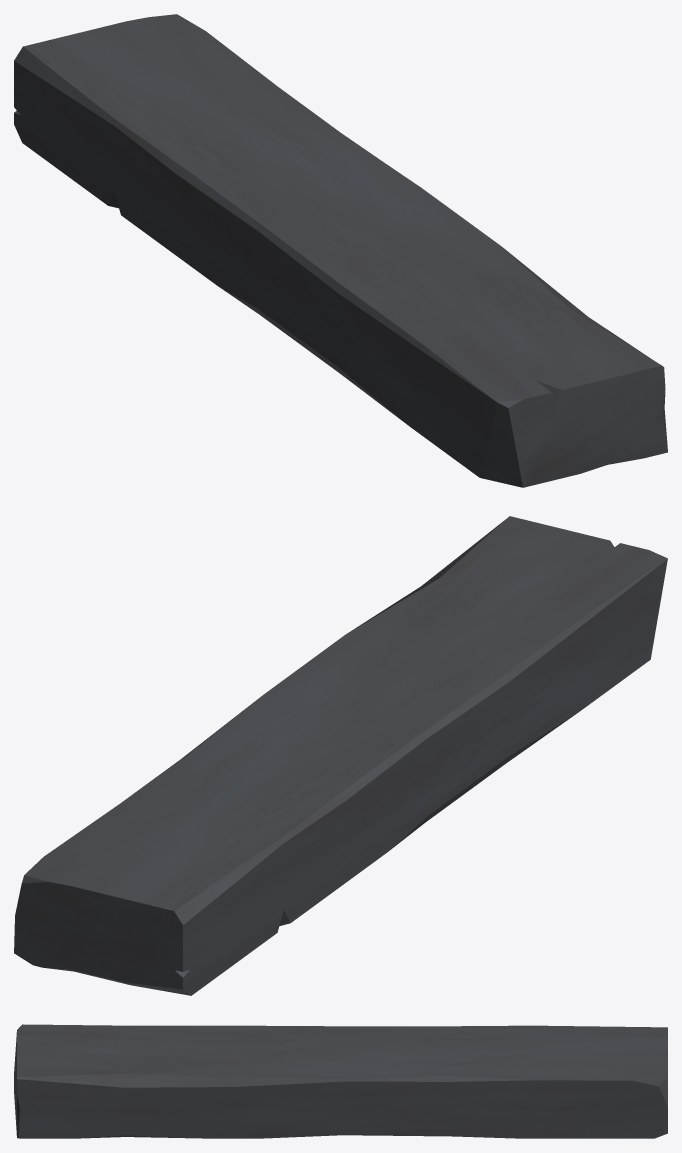
Rendered from ruins_slab_3.fbx.
The picture shows the model from 3 angles, top to bottom: view 1: azimuth 30°, elevation 25°; view 2: azimuth 150°, elevation 25°; view 3: azimuth 270°, elevation 25°; orthographic projection. The views are drawn at different scales.
Visible parts, largest first — view 1: slab 3; view 2: slab 3; view 3: slab 3.
Part boxes in pixels (<box>): slab 3: <box>14,14,667,487</box>; slab 3: <box>14,516,667,995</box>; slab 3: <box>14,1024,667,1138</box>.
Bounding box in the file's own units: 100 × 50 × 502.
